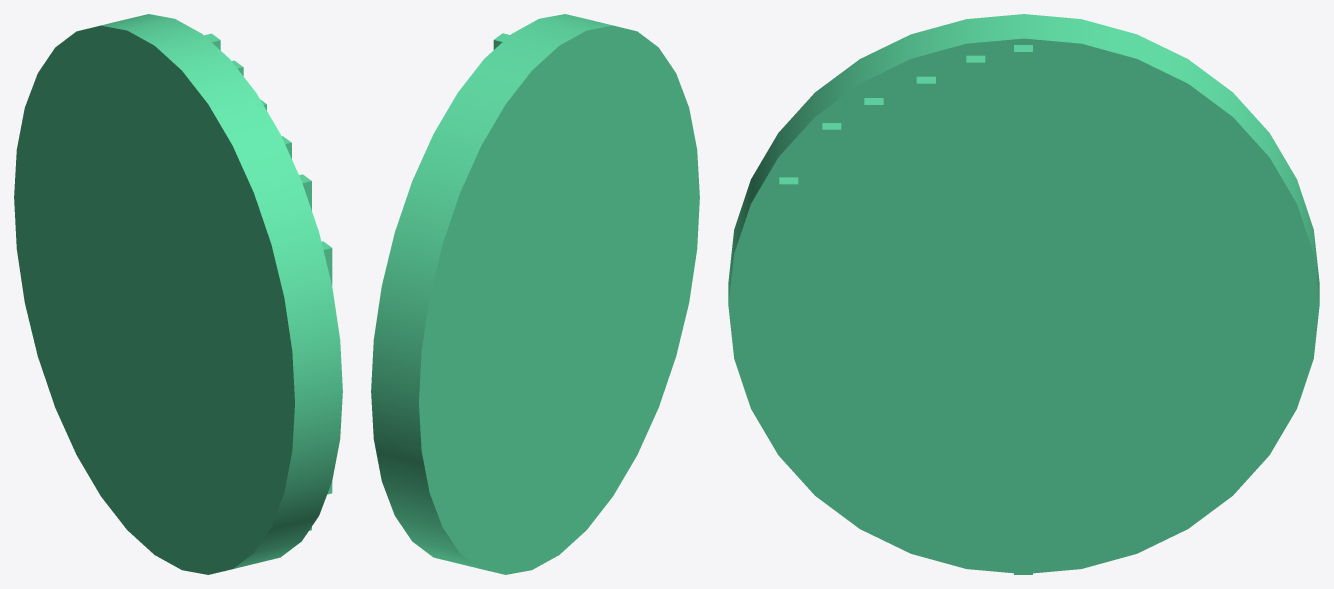
Rendered from SmallHandle.fbx.
3 renders of one model, left to right at view 1: azimuth 30°, elevation 25°; view 2: azimuth 150°, elevation 25°; view 3: azimuth 270°, elevation 25°, orthographic. The views are drawn at different scales.
Parts seen in each view (by area): view 1: Cube.056; view 2: Cube.056; view 3: Cube.056.
Part boxes in pixels (x1=…): Cube.056: x1=14, y1=14, x2=342, y2=574; Cube.056: x1=371, y1=14, x2=699, y2=574; Cube.056: x1=728, y1=14, x2=1319, y2=574.
Bounding box in the file's own units: 0.861 × 6.82 × 6.82.
